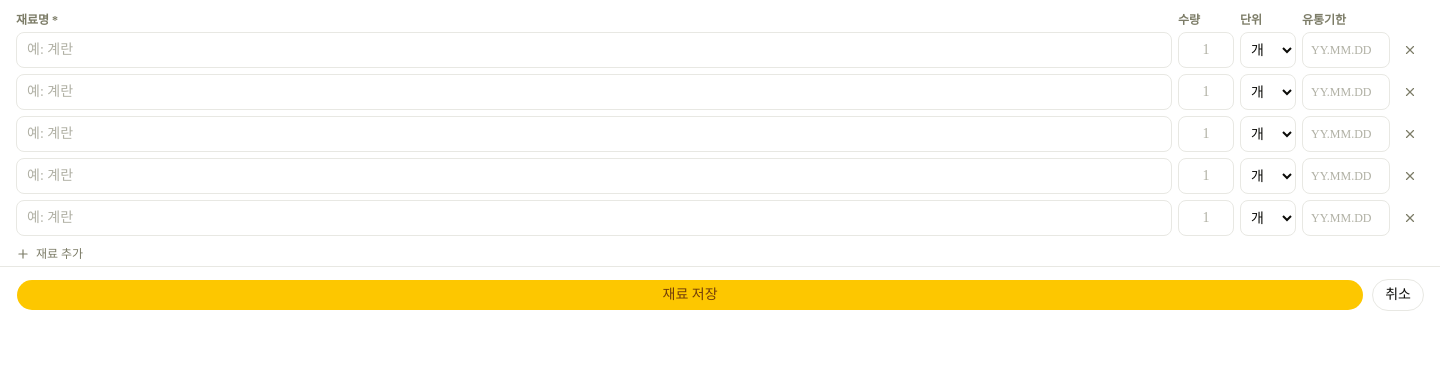
Test: IngredientForm › adds a new row when "재료 추가" button is clicked
What coordinates should you click on to do the following:
click the button "재료 추가"
I would click on:
 (50, 254)
Its box is x1=16 y1=242 x2=83 y2=266.
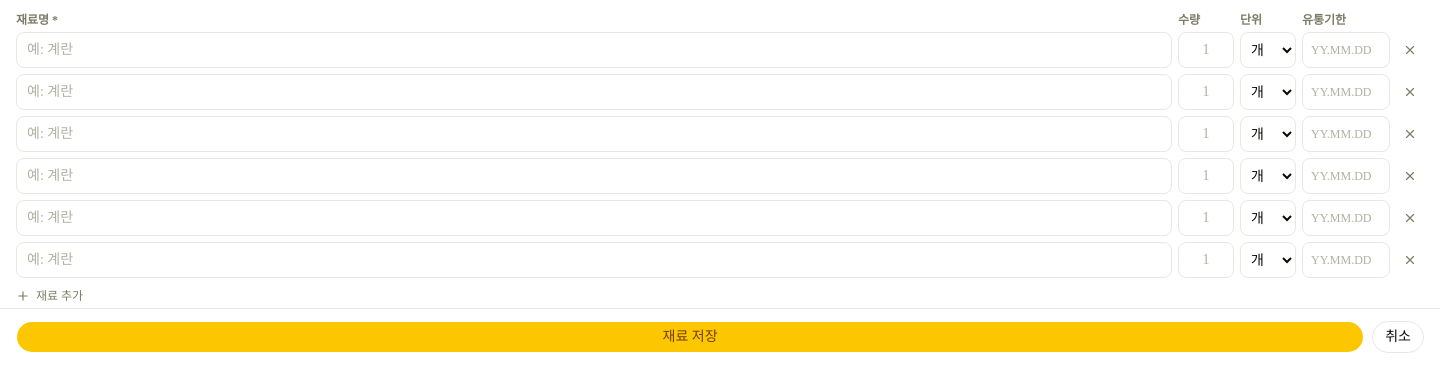
Result: the number of fields named "재료명" is 6 at x1=16 y1=32 x2=1172 y2=68; x1=16 y1=74 x2=1172 y2=110; x1=16 y1=116 x2=1172 y2=152; x1=16 y1=158 x2=1172 y2=194; x1=16 y1=200 x2=1172 y2=236; x1=16 y1=242 x2=1172 y2=278
